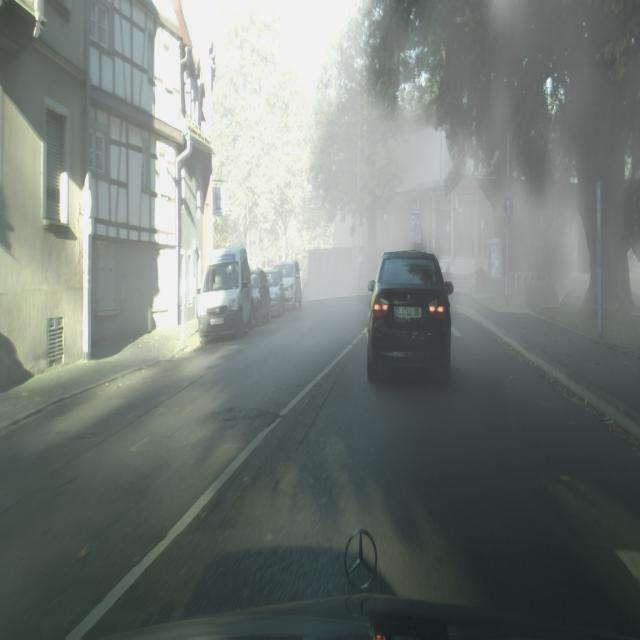car: (196, 244, 254, 345)
person: (366, 250, 453, 384), (274, 259, 303, 310), (250, 269, 271, 326), (265, 268, 285, 318)
